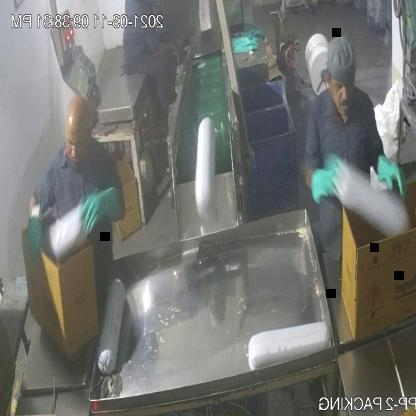glove: (74, 170, 118, 249), (23, 207, 55, 274)
